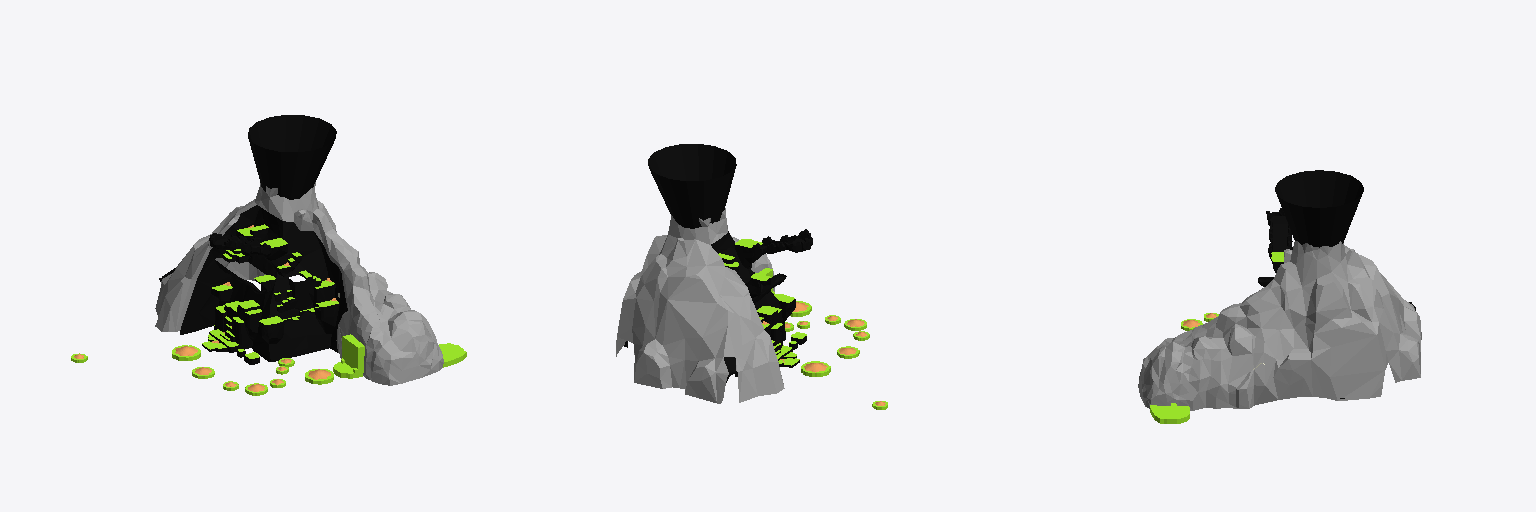
Rendered from LavaWorldHomeGround007.obj.obj.
The picture shows the model from 3 angles: view 1: azimuth 30°, elevation 25°; view 2: azimuth 150°, elevation 25°; view 3: azimuth 270°, elevation 25°; orthographic projection.
Size of the model in its own units: 21898 by 13006 by 17734.